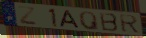1: (47, 8, 59, 28)
A: (59, 9, 81, 29)
B: (98, 12, 120, 33)
Q: (79, 11, 101, 32)
R: (119, 14, 141, 34)
Z: (17, 5, 38, 26)
